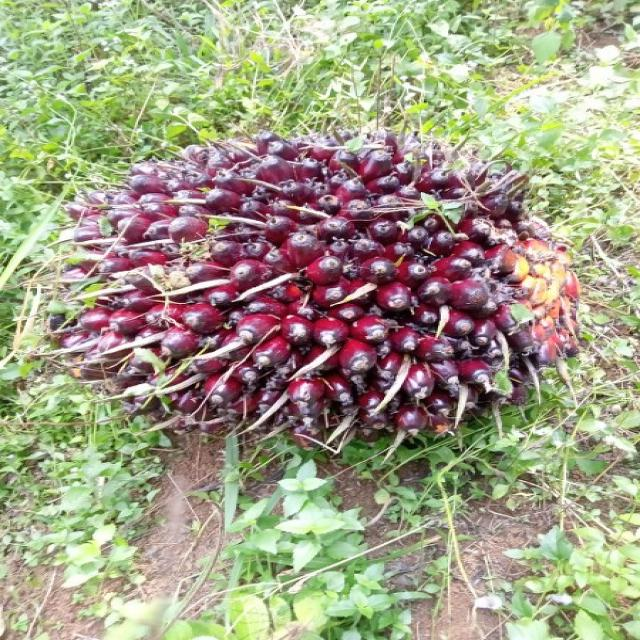fraksi 1: (41, 136, 580, 440)
